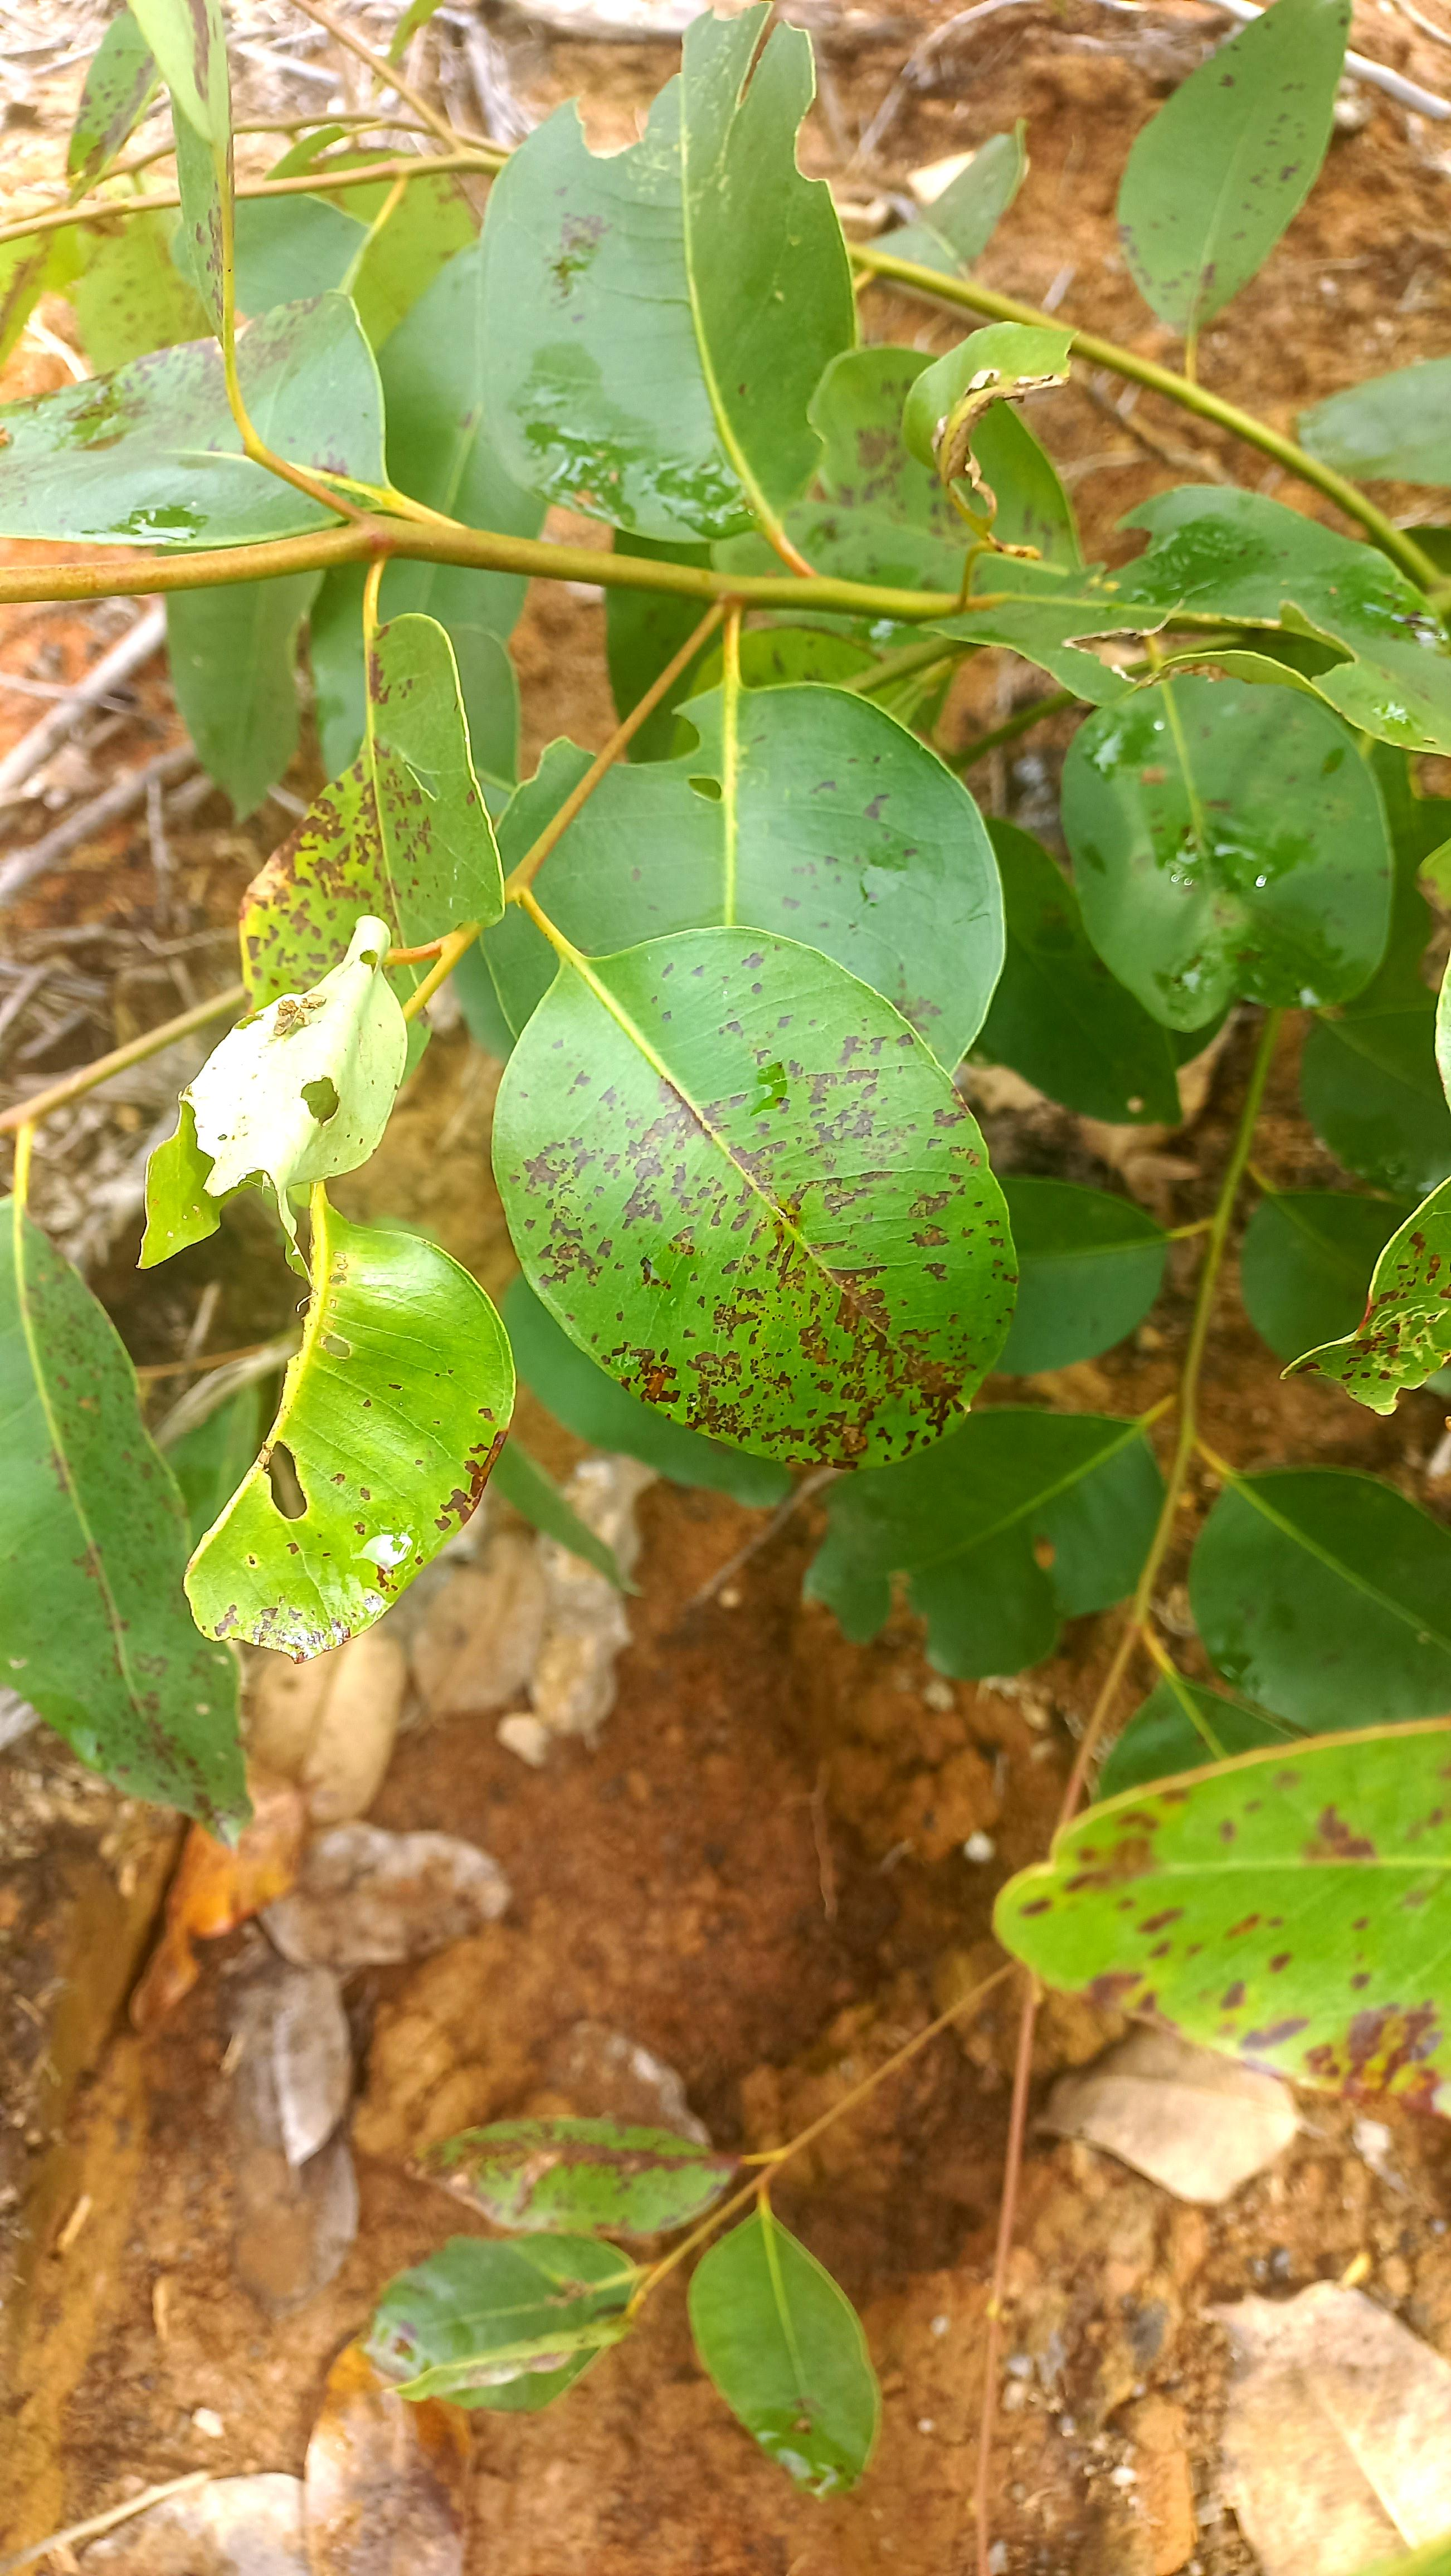Xanthomonas: (518, 931, 1009, 1467), (1003, 1716, 1451, 2169), (218, 1182, 510, 1649), (230, 609, 483, 994), (787, 336, 1117, 589), (425, 2097, 729, 2250), (1288, 1166, 1451, 1431), (357, 2268, 656, 2411)
